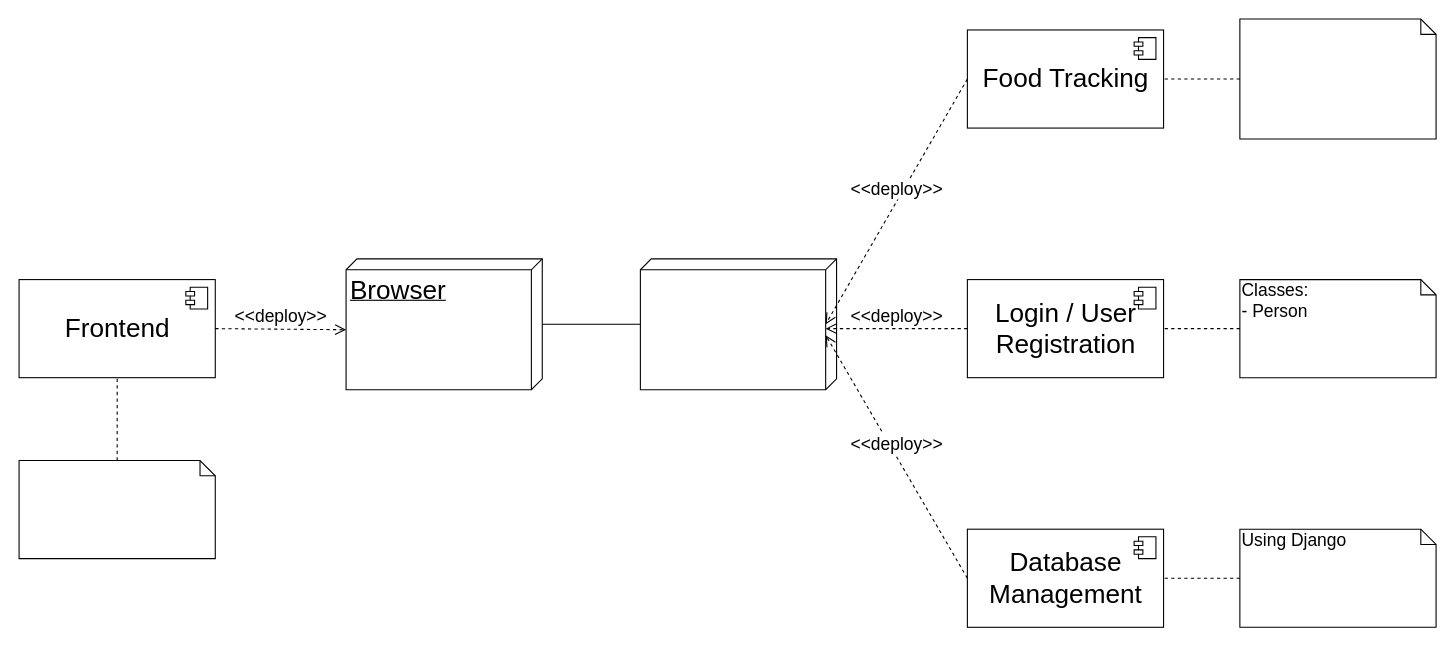
Some shapes in this 1455 by 646 pixel diagram are drawn without their labels. The shapes that lost their labels are listed below. From the top down, each one's box as (x1, y1, x2, y2) in pixels, then its label:
(1239, 18, 1436, 139): Classes: - AteFood - Nutrition - Food - Profile
(639, 258, 837, 390): Web Server
(18, 459, 215, 559): Frontend running in Bootstrap
